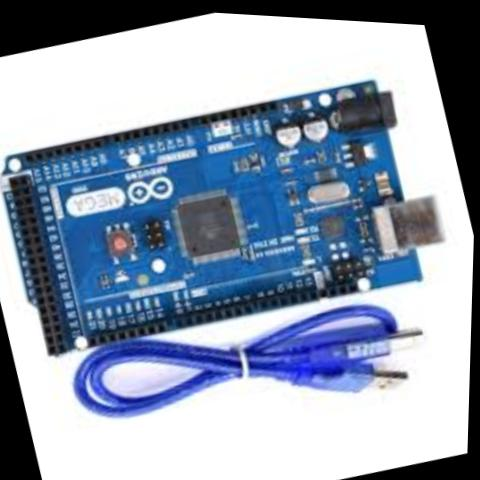Arduino-Mega: (0, 27, 468, 392)
